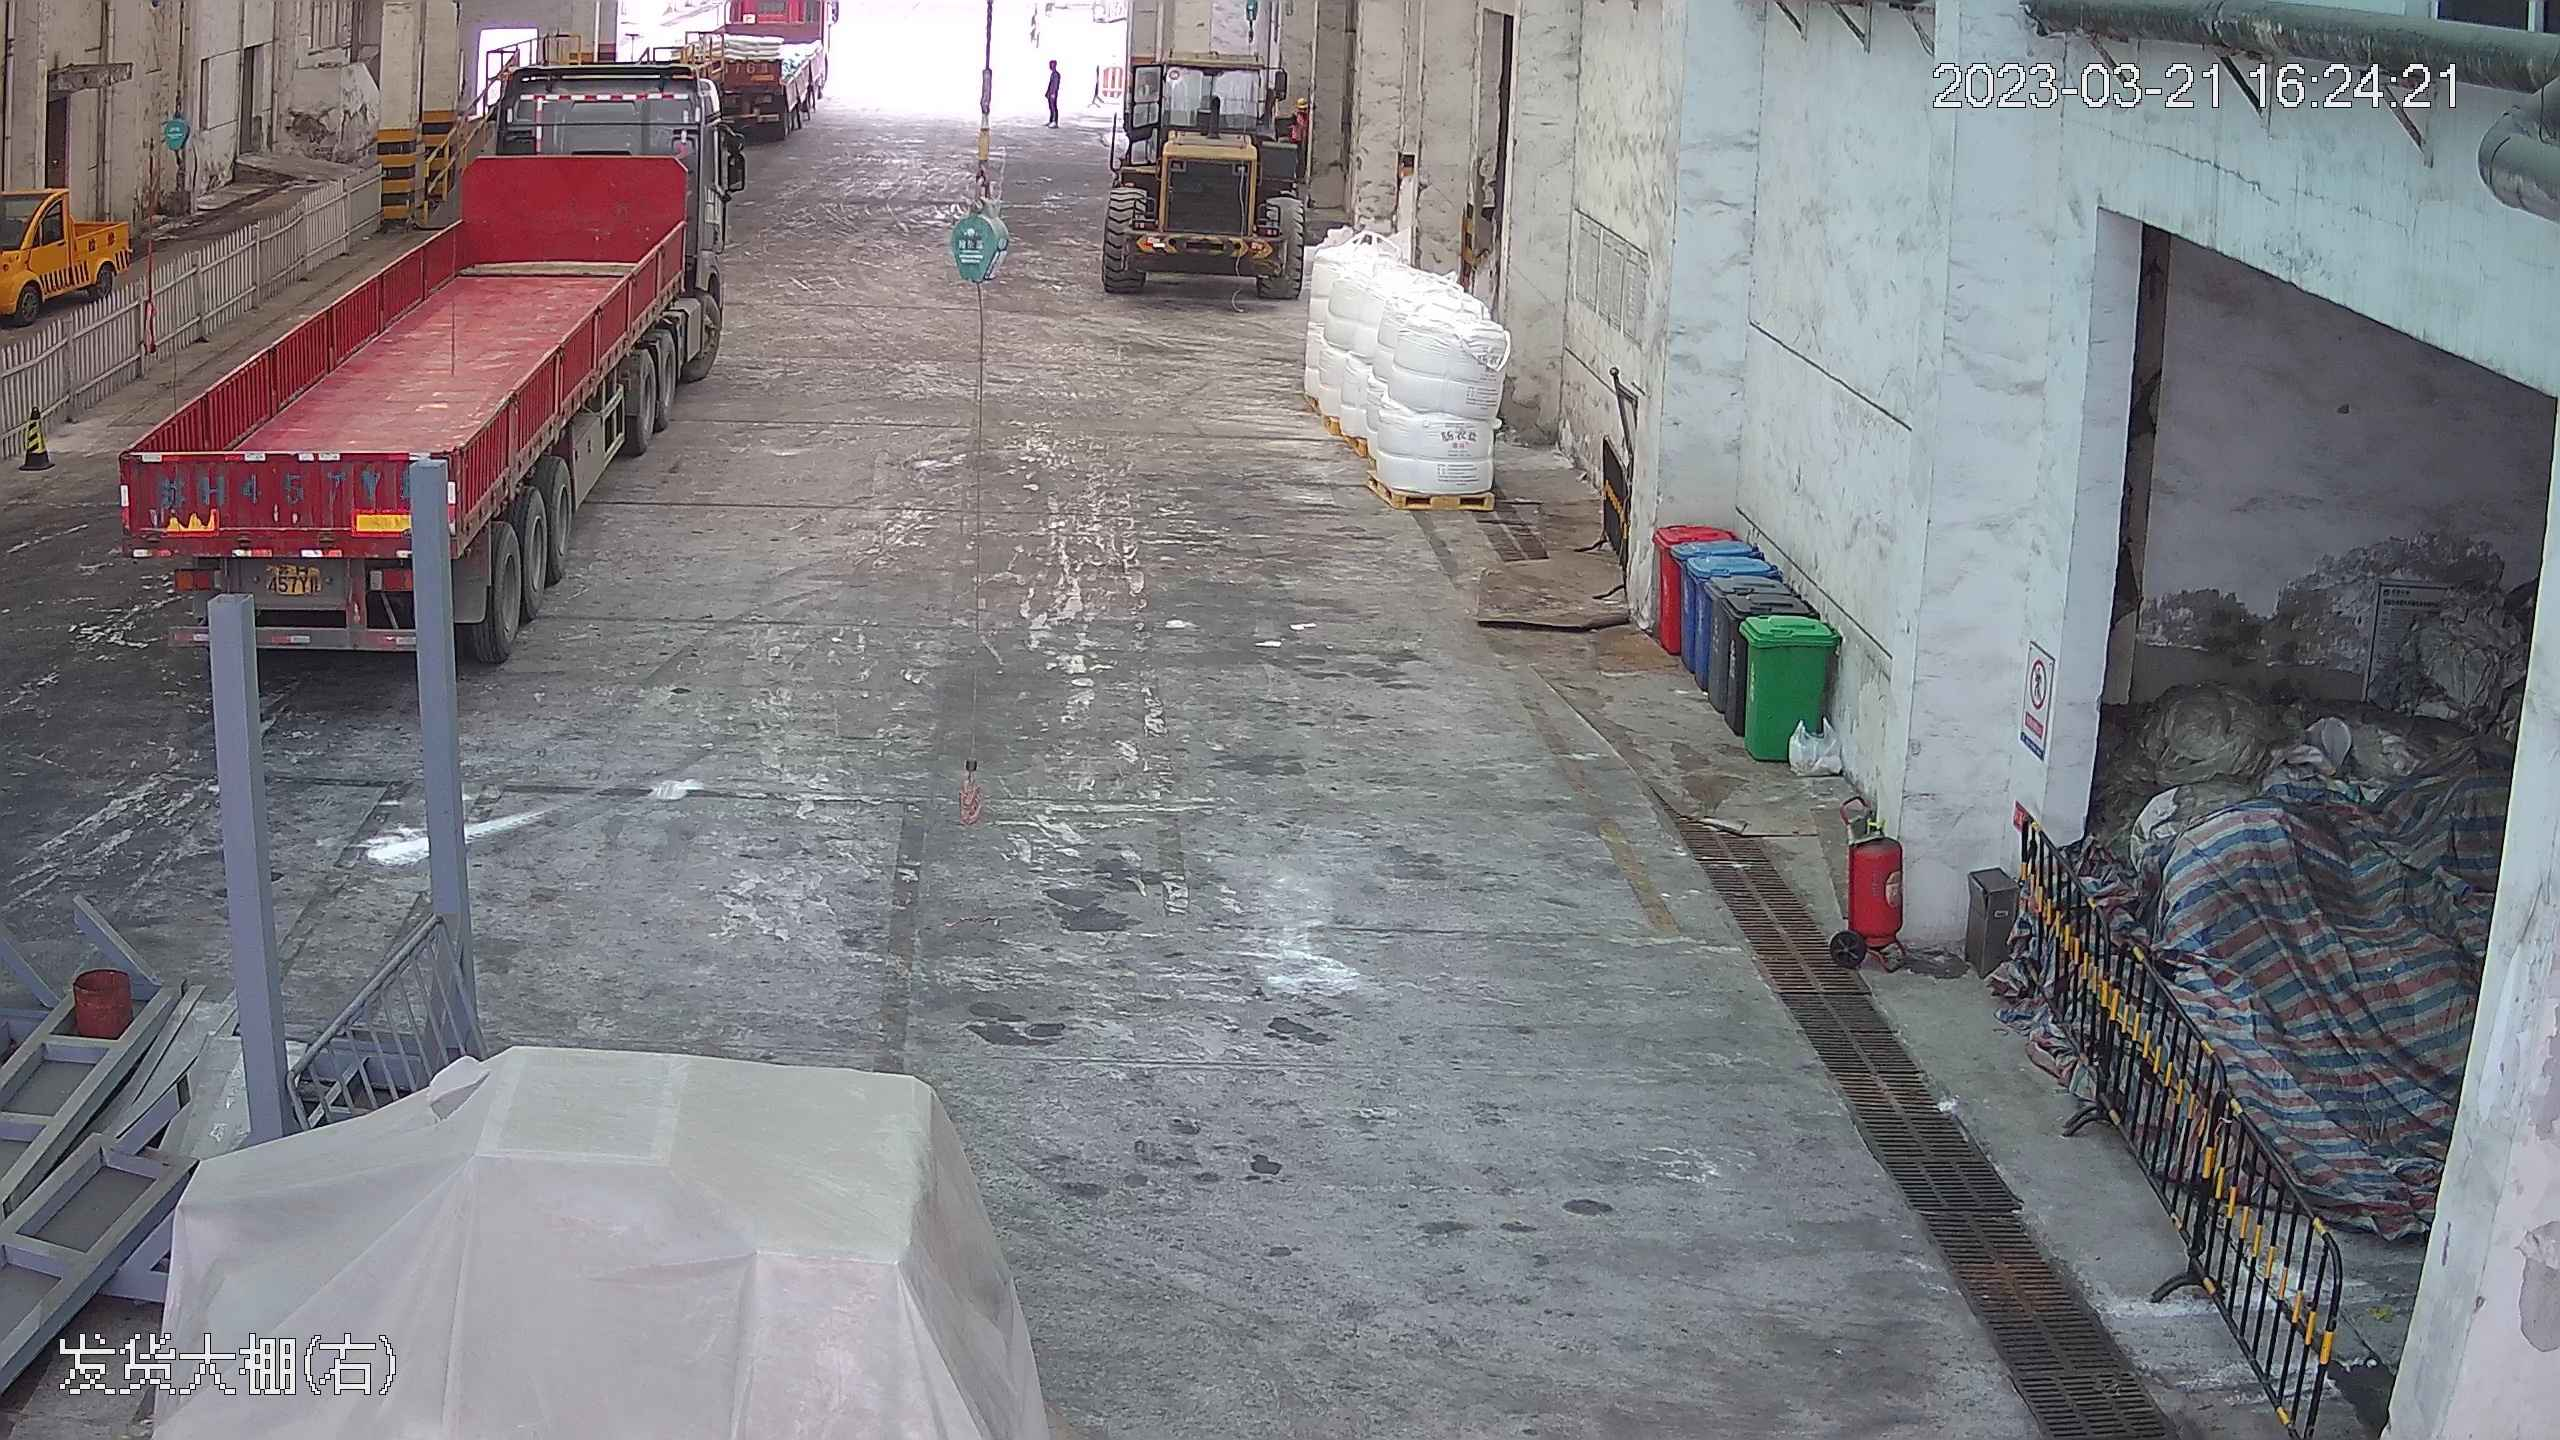head: (1045, 57, 1061, 85)
helmet: (1048, 59, 1058, 68)
people: (1041, 56, 1062, 129)
truck: (111, 20, 732, 666)
